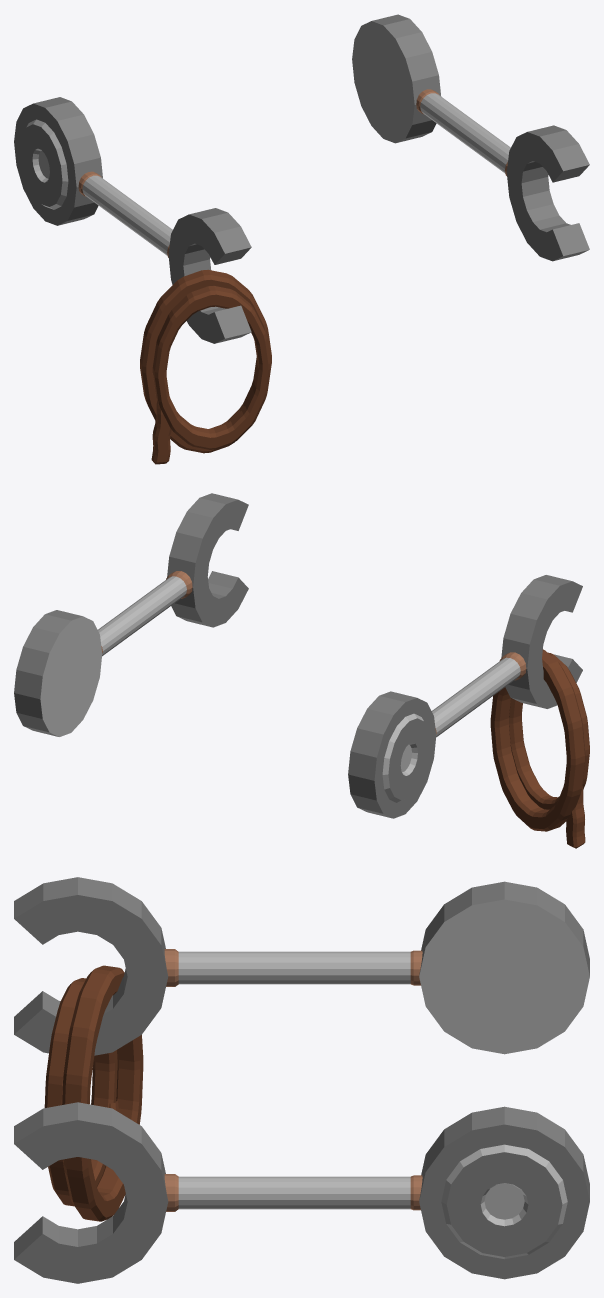
Rendered from armCowboy.fbx.
3 renders of one model, top to bottom at view 1: azimuth 30°, elevation 25°; view 2: azimuth 150°, elevation 25°; view 3: azimuth 270°, elevation 25°, orthographic. The views are drawn at different scales.
Visible parts, largest first — view 1: Arm - Cowboy; view 2: Arm - Cowboy; view 3: Arm - Cowboy.
Part boxes in pixels (x1,y1,x2,y2): Arm - Cowboy: (14, 14, 589, 464); Arm - Cowboy: (14, 493, 589, 848); Arm - Cowboy: (14, 877, 589, 1283).
Size of the model in its own units: 93.4 by 83.05 by 53.55.
